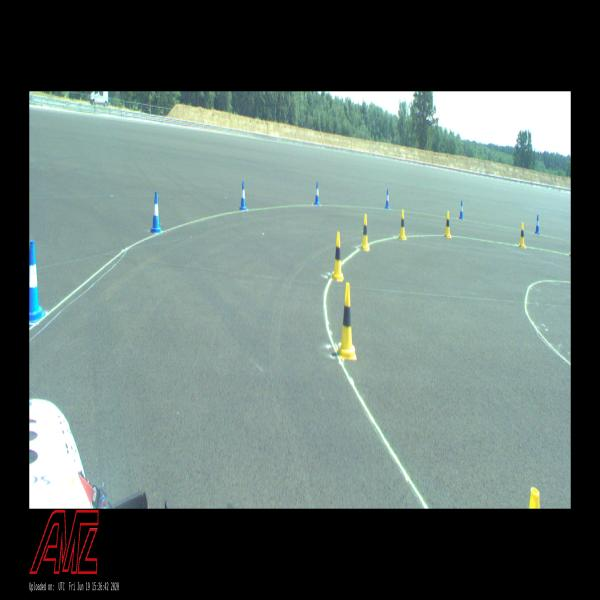blue_cone: (30, 241, 46, 322), (150, 192, 161, 232), (240, 181, 246, 210), (314, 183, 320, 204), (534, 215, 540, 234), (385, 189, 389, 209), (459, 201, 463, 219)
yellow_cone: (337, 283, 356, 359), (332, 232, 344, 281), (360, 215, 369, 250), (398, 210, 406, 239), (444, 211, 452, 238), (519, 223, 525, 247)
